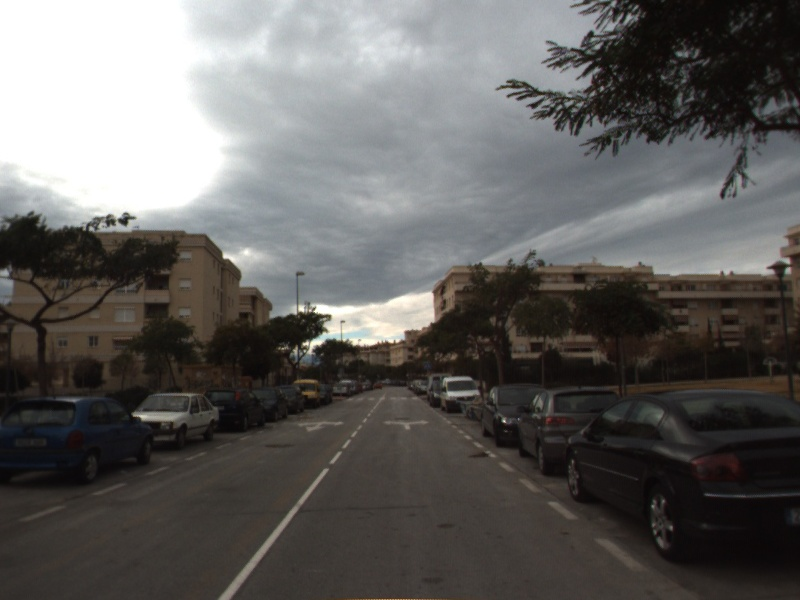LEFT_RIGHT: (381, 417, 432, 432)
